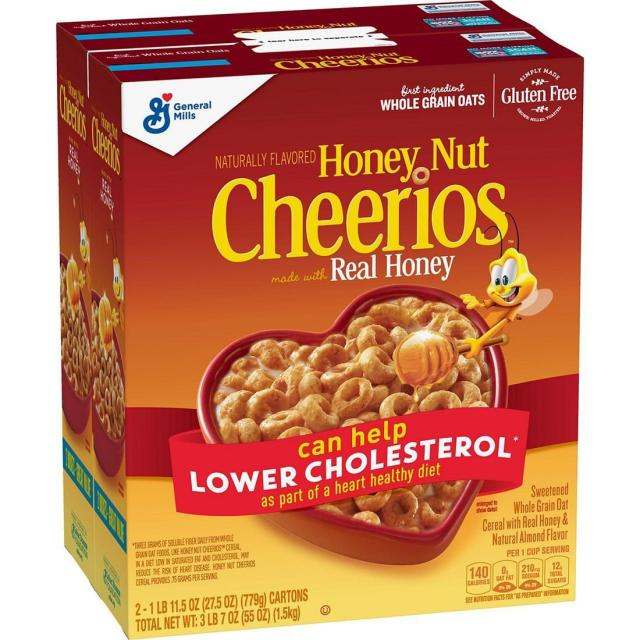food-package: (52, 29, 132, 576)
food-supliment: (120, 66, 584, 607), (66, 5, 570, 76)
